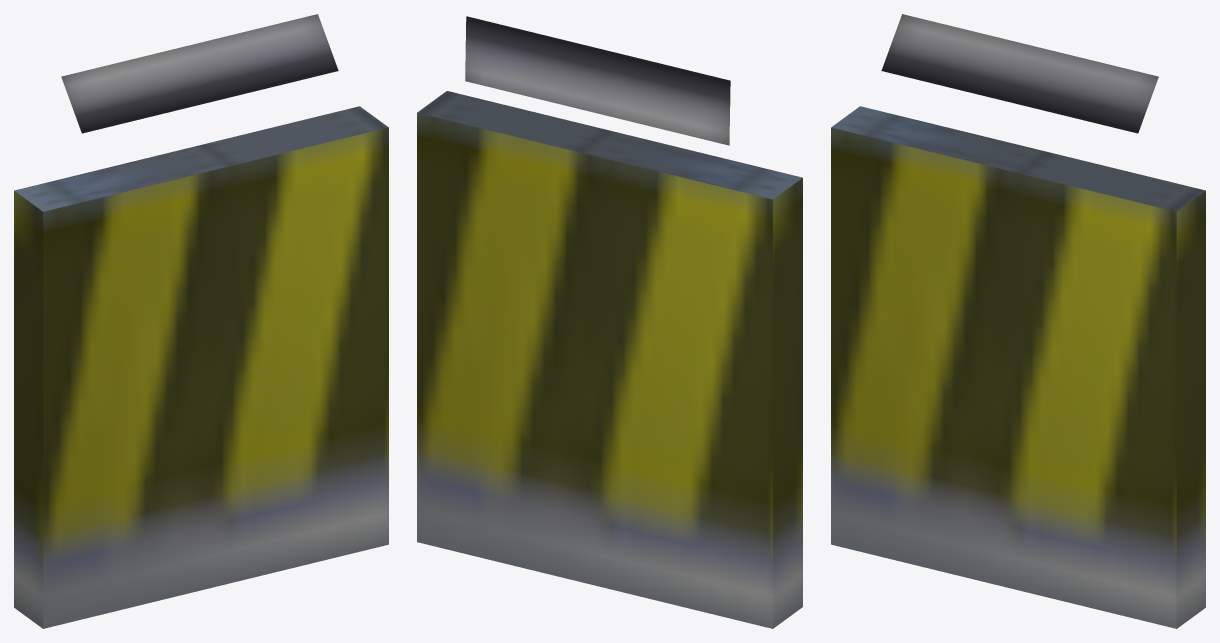
3 renders of one model, left to right at view 1: azimuth 30°, elevation 25°; view 2: azimuth 150°, elevation 25°; view 3: azimuth 330°, elevation 25°, orthographic. The views are drawn at different scales.
Visible parts, largest first — view 1: Box31; view 2: Box31; view 3: Box31.
Boxes of the visible parts, left/top/right/bottom form: Box31: left=14, top=14, right=388, bottom=628; Box31: left=417, top=16, right=802, bottom=628; Box31: left=831, top=14, right=1205, bottom=628.
Bounding box in the file's own units: 93.01 × 134 × 13.57.
2 materials, 2 textured.
